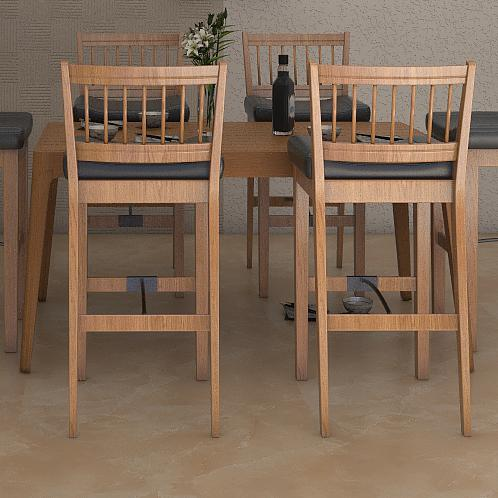table: (21, 115, 469, 415)
